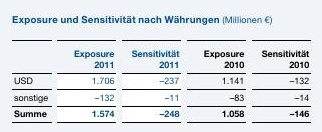table: (0, 0, 322, 132)
